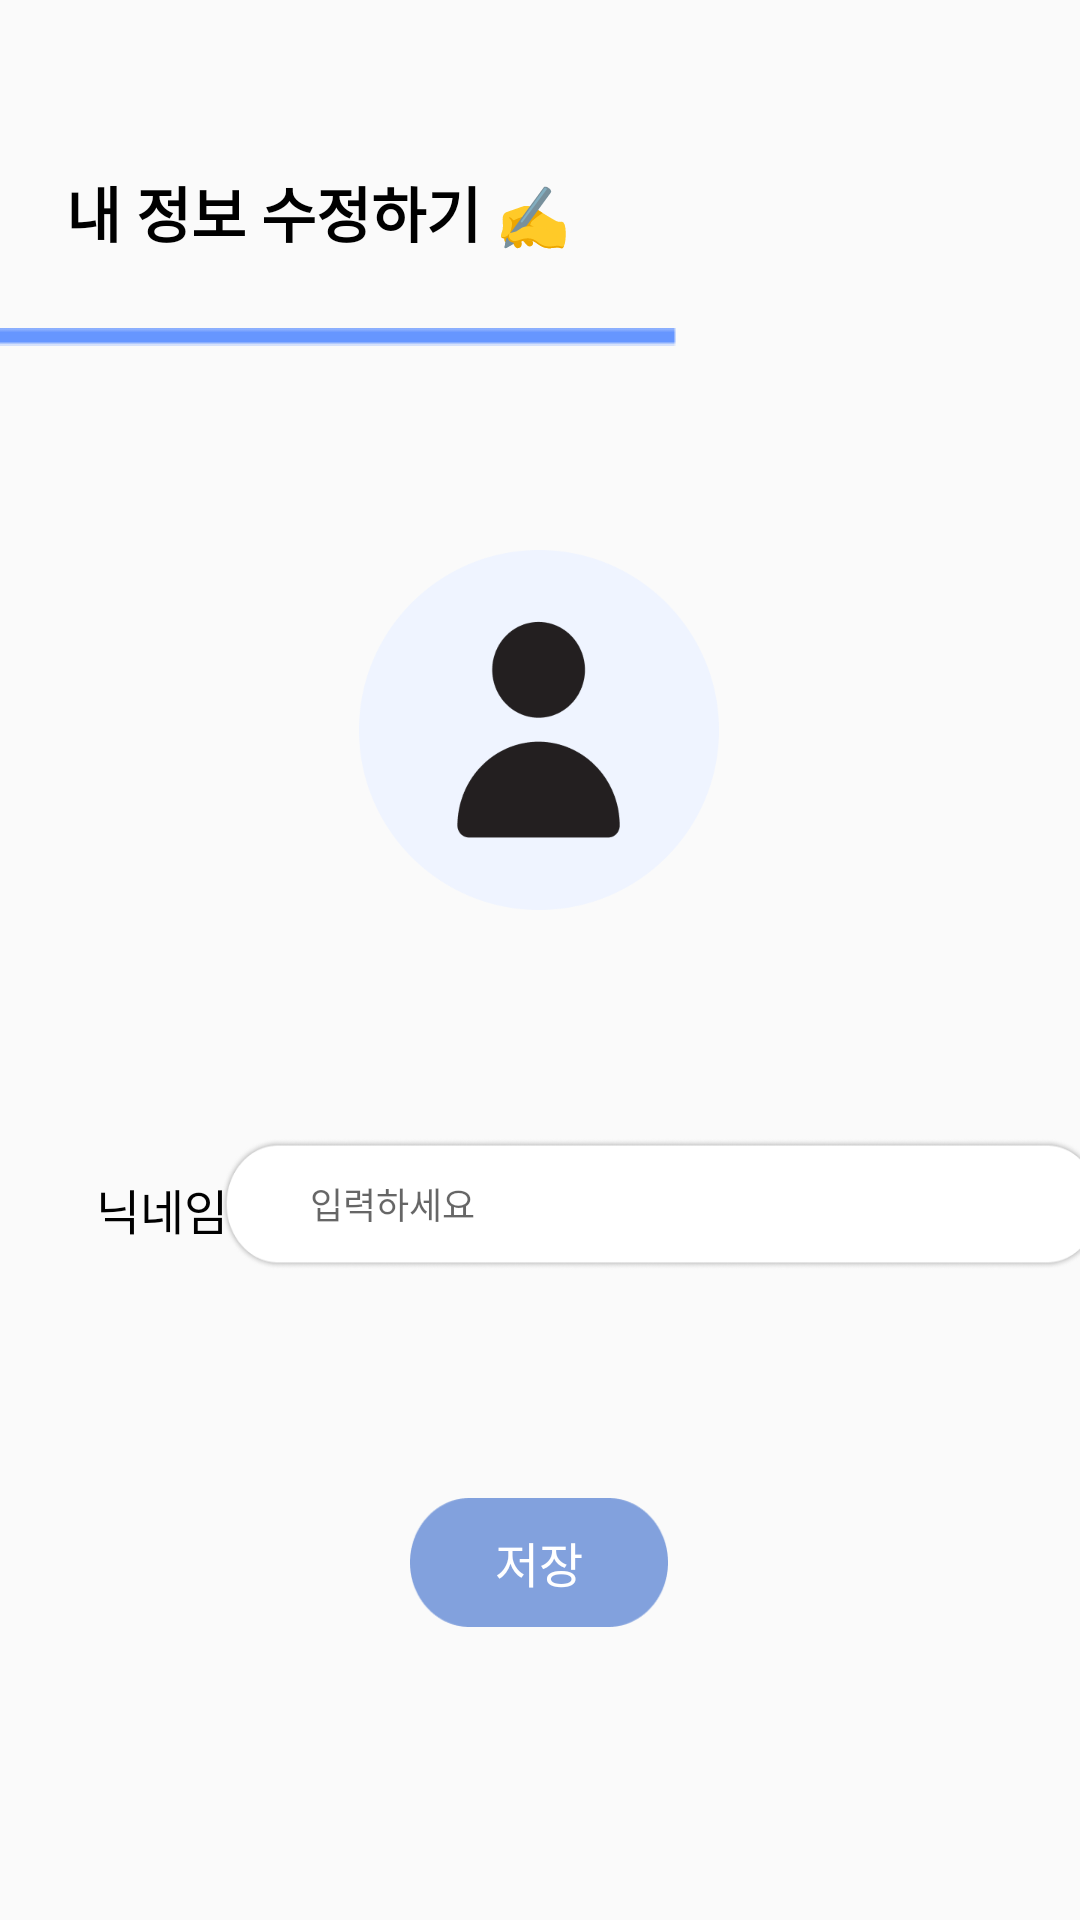

Icon click points for this 1080 × 1920 phone screenshot, format [x,y]:
profile: [538,729]
